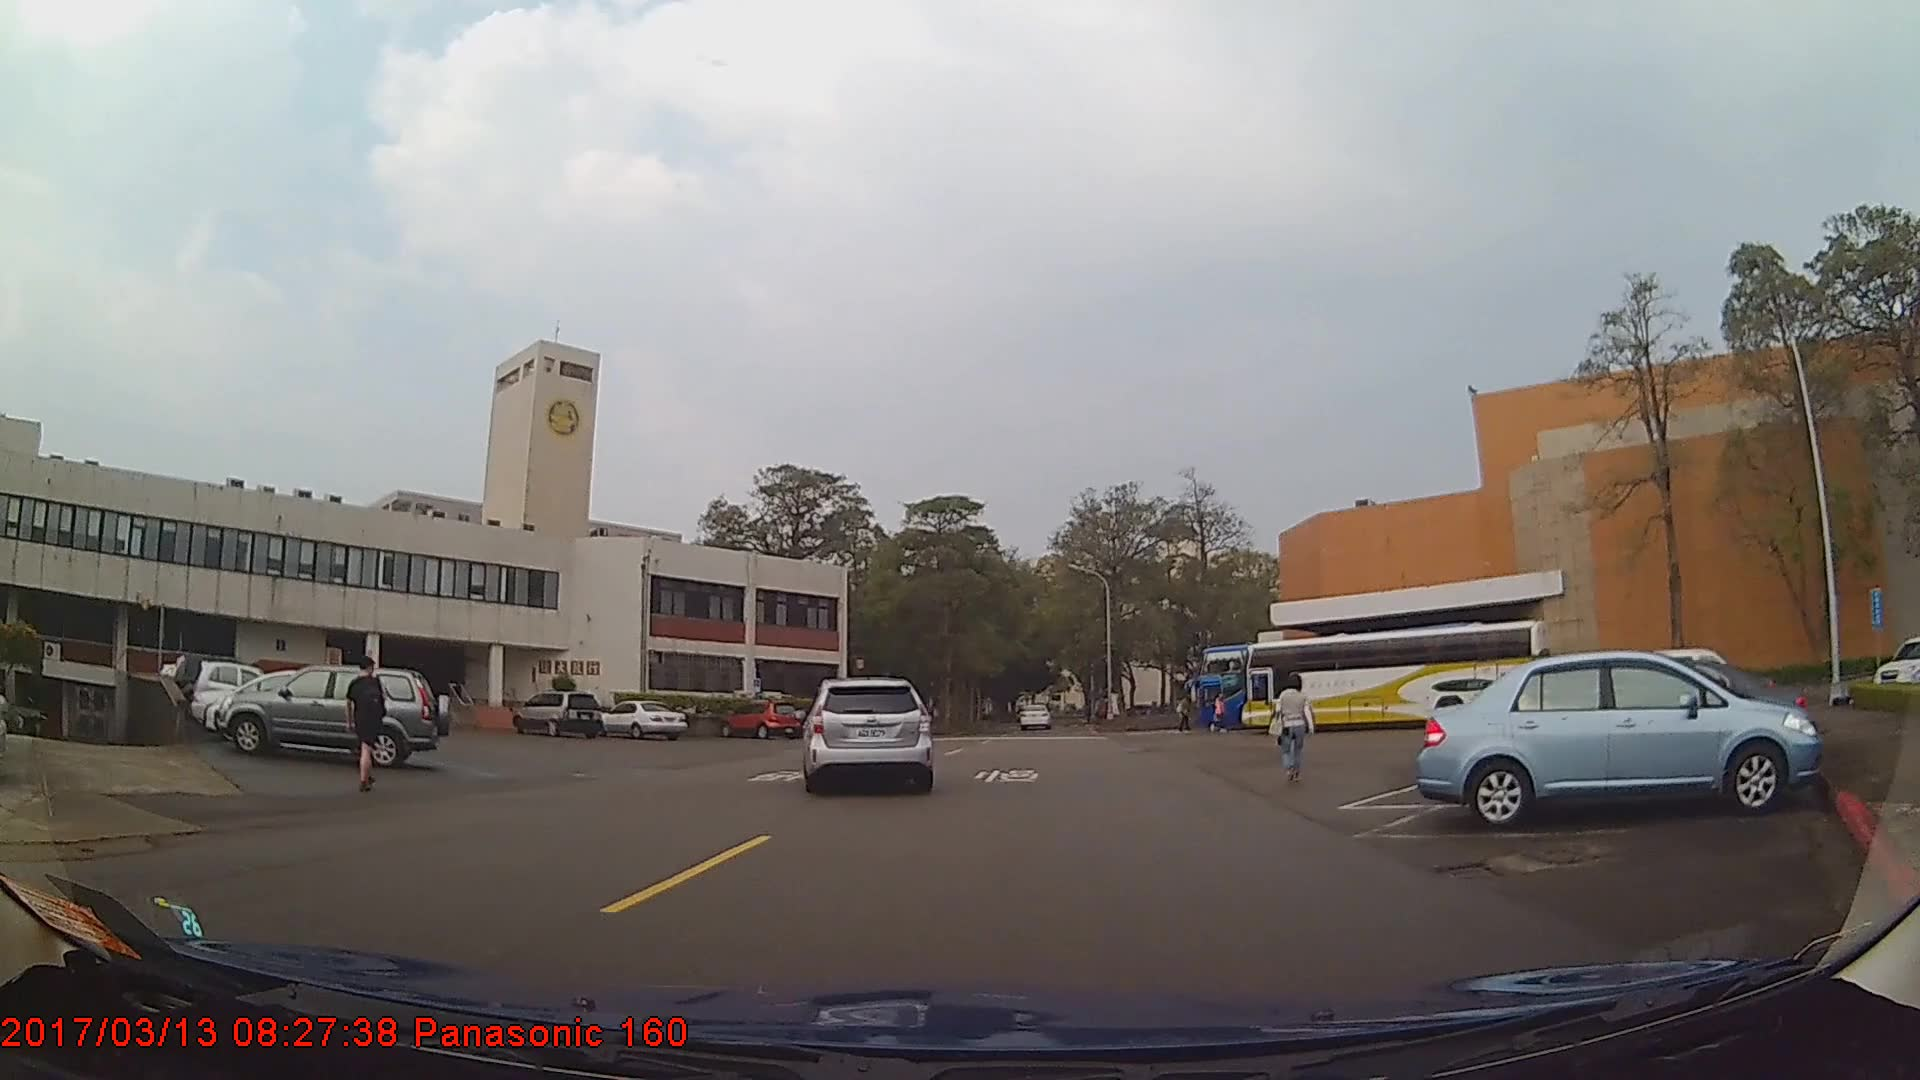pedestrian: (343, 651, 392, 789), (1275, 673, 1314, 786)
vehicle: (1417, 645, 1822, 829), (1241, 618, 1551, 736), (221, 665, 451, 768), (1194, 636, 1435, 731), (804, 676, 931, 794), (193, 660, 296, 722), (512, 690, 605, 739), (598, 699, 690, 740), (719, 699, 801, 738), (1018, 701, 1051, 731)
